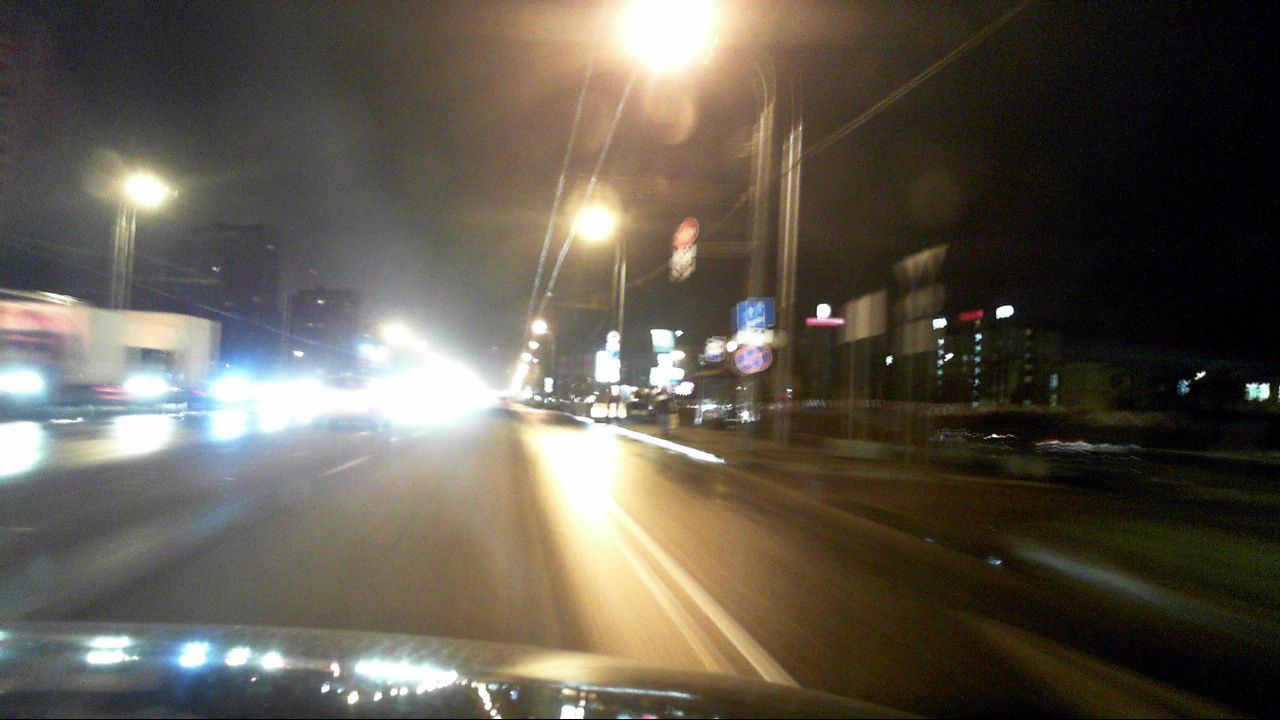No Parking: (736, 347, 763, 373)
